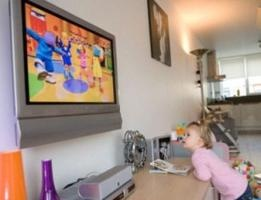person without safety: (179, 119, 251, 198)
